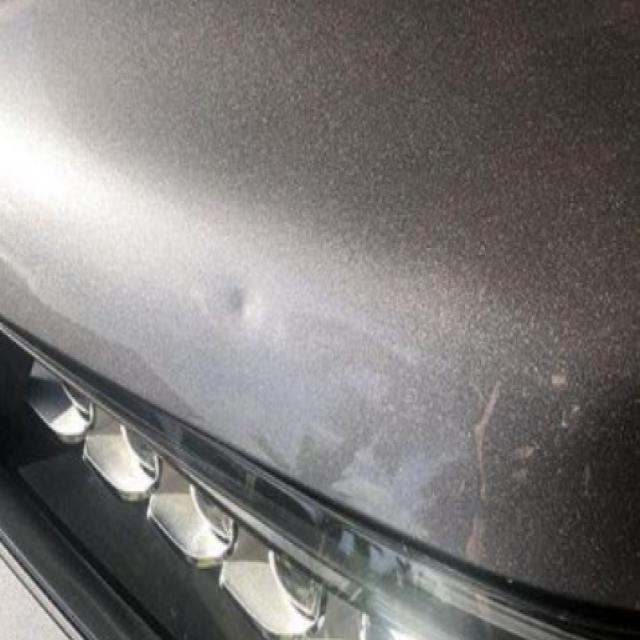dents: (216, 272, 268, 351)
